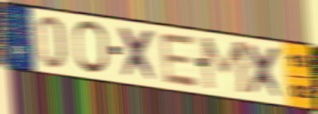0: (35, 14, 68, 71)
E: (159, 30, 201, 90)
M: (200, 35, 252, 98)
O: (72, 19, 111, 77)
X: (243, 41, 288, 102), (117, 24, 161, 85)
